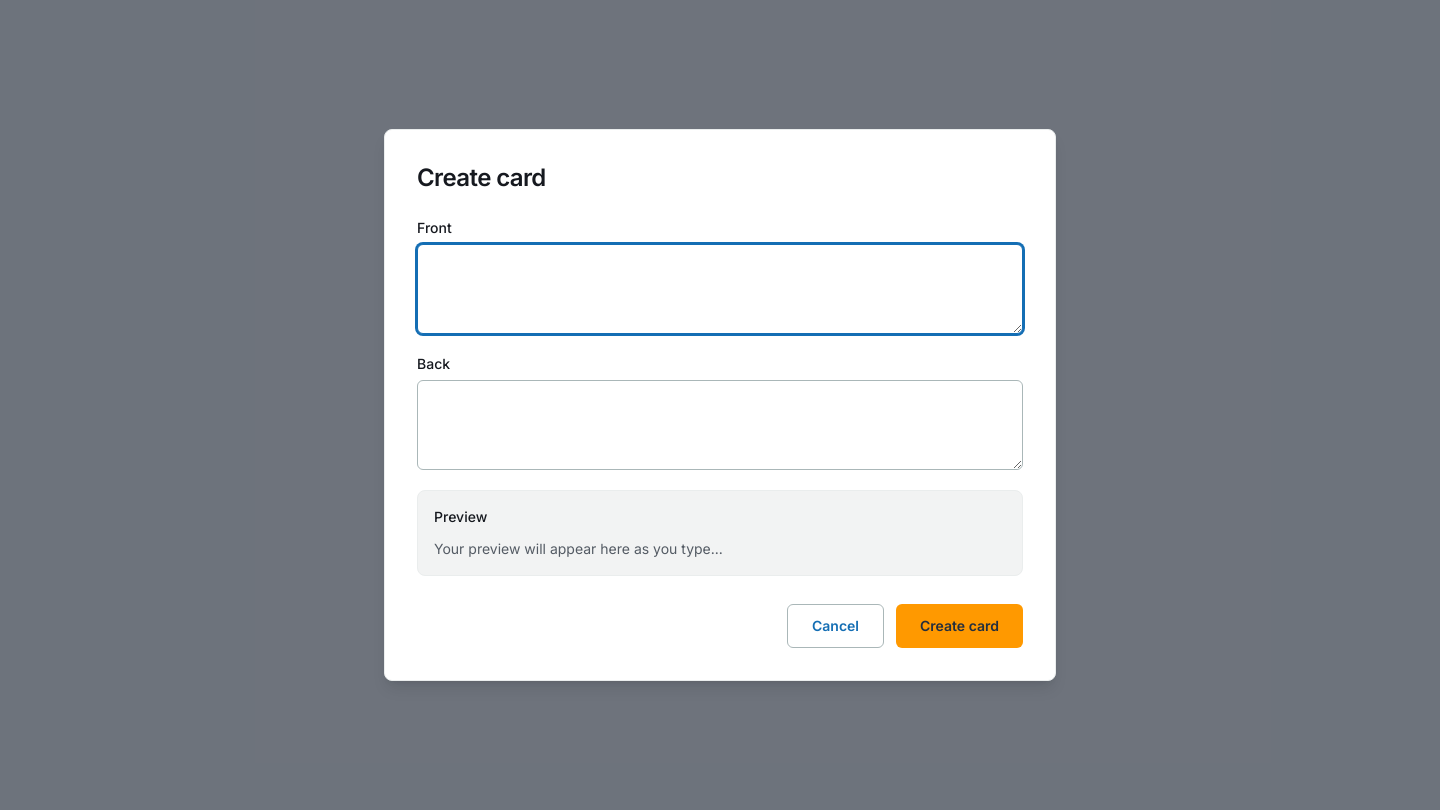
CardForm › retains input and shows field-specific message on validation failure
Note: Type valid back, empty front
Type "Valid answer" into the text box labelled "Back" at (720, 425), box [417,380,1023,470]
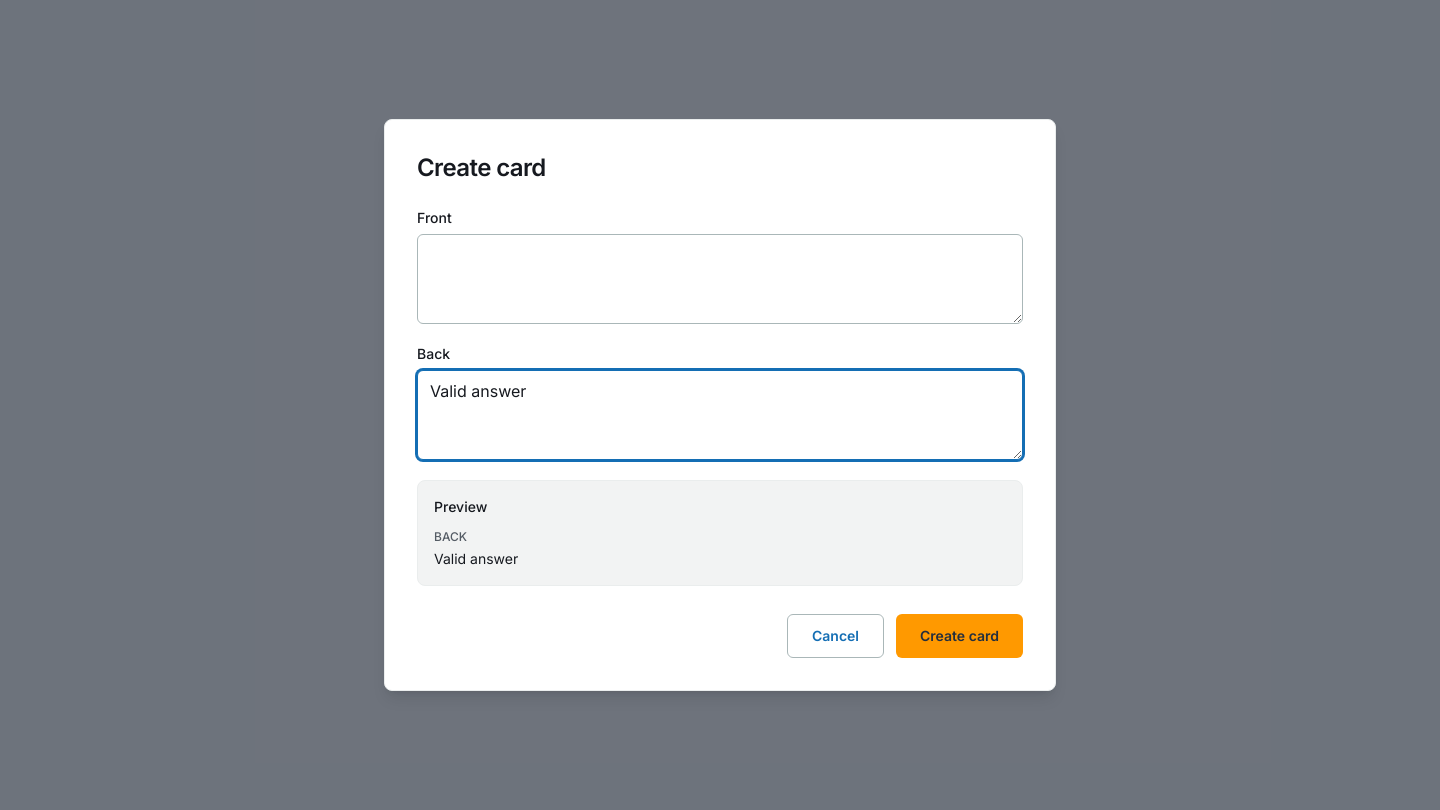
Note: Submit — should fail on empty front
Click the button "Create card" at (960, 636), box [896,614,1023,658]
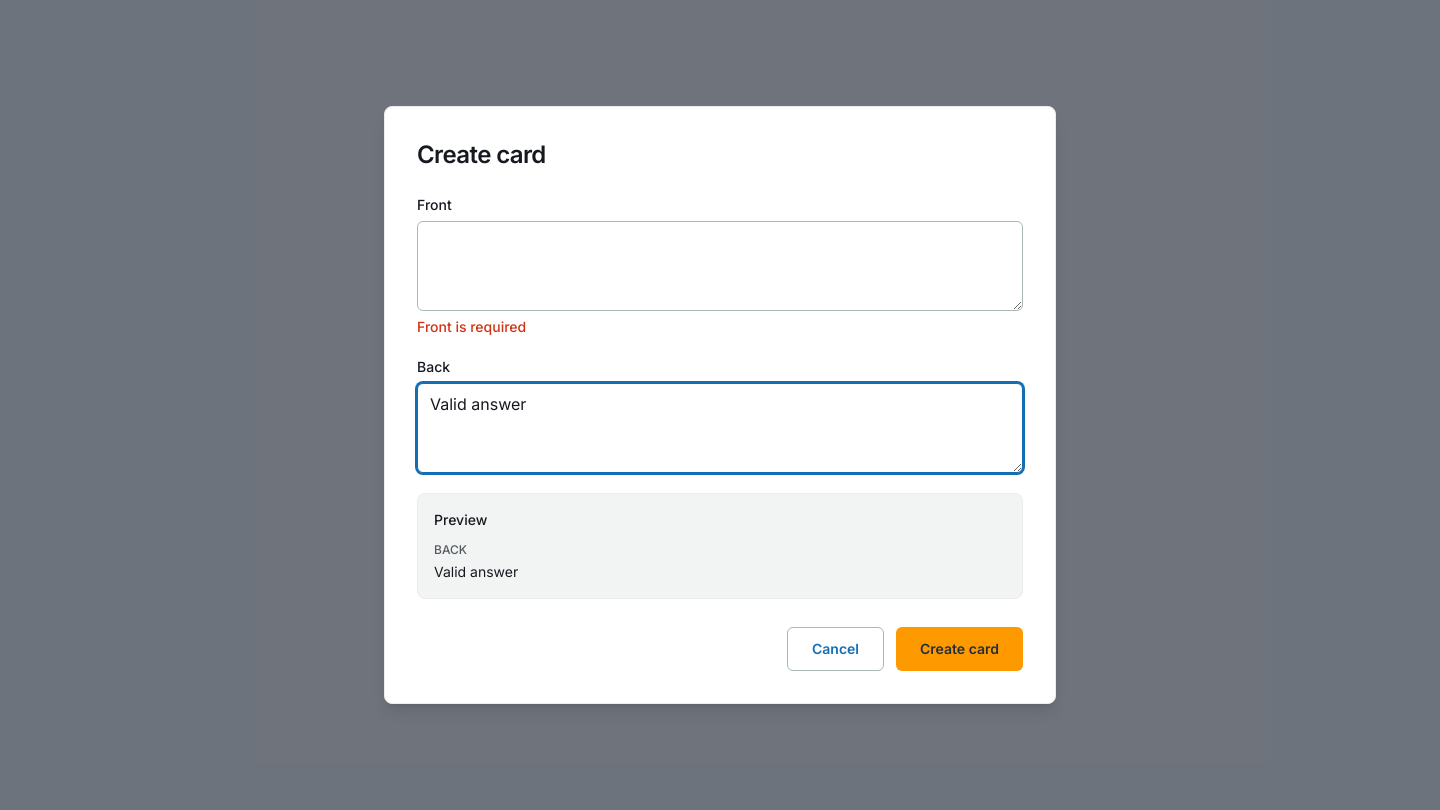
Now the text "Front is required" is shown, box [417,318,526,335]
